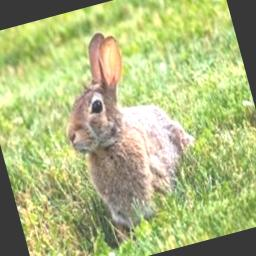rabbit: (66, 32, 193, 238)
